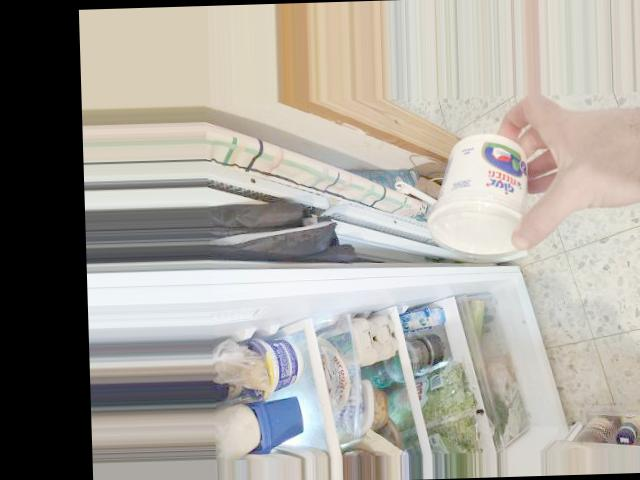cotage: (428, 127, 540, 253)
